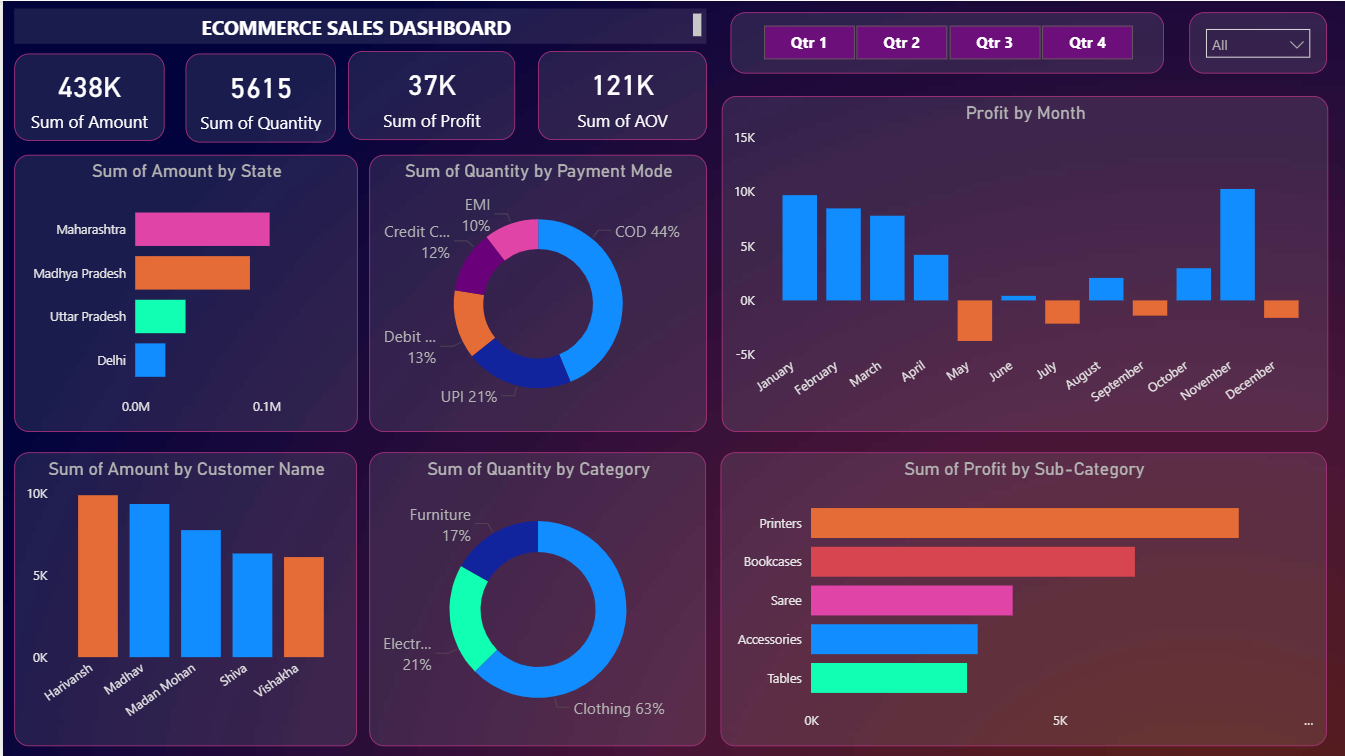

The page's visual inventory and layout, read from the dashboard file:
{"tool":"powerbi","page":{"name":"Page 1","canvas":[1280,720],"ordinal":0},"visuals":[{"type":"textbox","box":[10.7,0,659.5,39.3],"z":0},{"type":"columnChart","title":" Profit by Month","fields":{"Category":["Orders.Order Date.Variation.Date Hierarchy.Month"],"Y":["Details.Profit"]},"box":[684.5,90.5,577.4,320.2],"z":1000},{"type":"barChart","fields":{"Category":["Details.Sub-Category"],"Y":["Details.Profit"]},"box":[683.3,429.8,577.4,279.8],"z":2000},{"type":"donutChart","fields":{"Category":["Details.Category"],"Y":["Details.Quantity"]},"box":[348.5,429.5,321.1,279.9],"z":3000},{"type":"donutChart","fields":{"Y":["Details.Quantity"],"Category":["Details.PaymentMode"]},"box":[348.8,146.4,321.4,264.3],"z":4000},{"type":"card","fields":{"Values":["Details.Amount"]},"box":[10.7,47.6,142.9,84.5],"z":5000},{"type":"card","fields":{"Values":["Details.Quantity"]},"box":[169,48.8,142.9,84.5],"z":6000},{"type":"card","fields":{"Values":["Details.Profit"]},"box":[328.6,47.6,159.5,84.5],"z":7000},{"type":"card","fields":{"Values":["Details.AOV"]},"box":[509.5,47.6,160.7,84.5],"z":8000},{"type":"barChart","fields":{"Category":["Orders.State"],"Y":["Details.Amount"]},"box":[10.7,146.4,327.4,264.3],"z":9000},{"type":"columnChart","title":" Profit by Month","fields":{"Category":["Orders.CustomerName"],"Y":["Details.Amount"]},"box":[11,429.5,326.6,279.9],"z":10000},{"type":"slicer","fields":{"Values":["Orders.Order Date.Variation.Date Hierarchy.Quarter"]},"box":[692.9,10.7,413.1,58.3],"z":11000},{"type":"slicer","fields":{"Values":["Orders.State"]},"box":[1129.8,10.7,131,58.3],"z":12000}]}

Visuals, with their boxes in screenshot pixels (x1, y1, x2, y2), scaled from the page's 1280x720 canvas onto the 1345x756 screenshot:
textbox: <box>11,0,704,41</box>
" Profit by Month" columnChart: <box>719,95,1326,431</box>
barChart - Details.Sub-Category x Details.Profit: <box>718,451,1325,745</box>
donutChart - Details.Category x Details.Quantity: <box>366,451,704,745</box>
donutChart - Details.Quantity x Details.PaymentMode: <box>367,154,704,431</box>
card - Details.Amount: <box>11,50,161,139</box>
card - Details.Quantity: <box>178,51,328,140</box>
card - Details.Profit: <box>345,50,513,139</box>
card - Details.AOV: <box>535,50,704,139</box>
barChart - Orders.State x Details.Amount: <box>11,154,355,431</box>
" Profit by Month" columnChart: <box>12,451,355,745</box>
slicer - Orders.Order Date.Variation.Date Hierarchy.Quarter: <box>728,11,1162,72</box>
slicer - Orders.State: <box>1187,11,1325,72</box>
